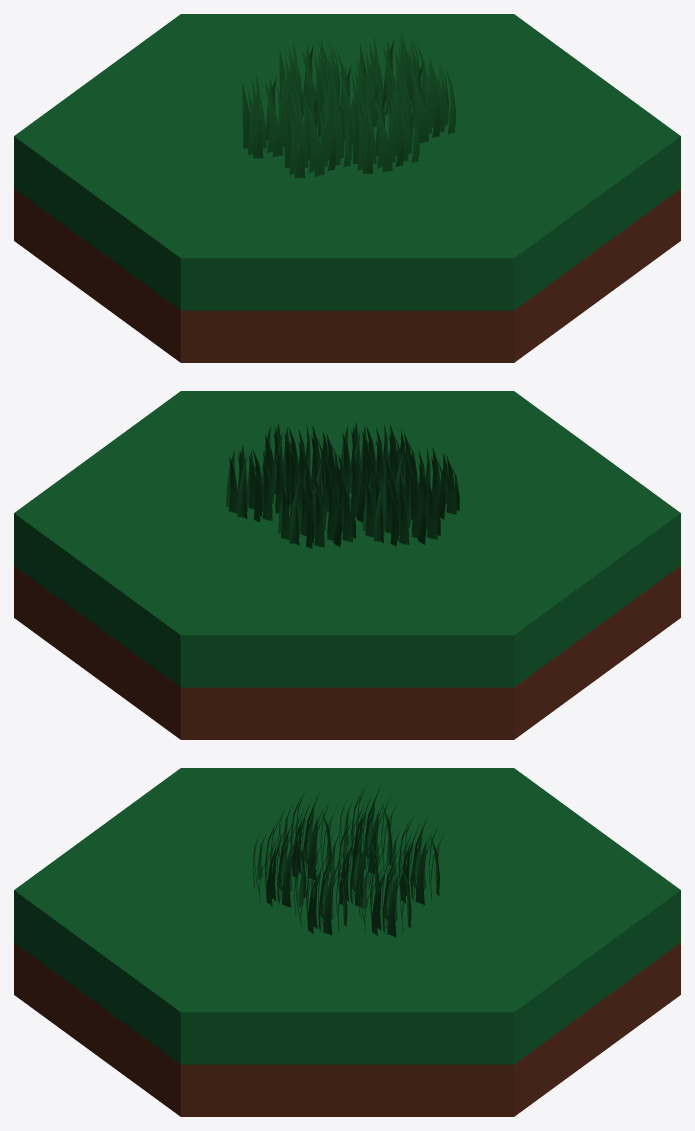
Rendered from SM_GrassTall.FBX.
The picture shows the model from 3 angles, top to bottom: view 1: azimuth 30°, elevation 25°; view 2: azimuth 150°, elevation 25°; view 3: azimuth 270°, elevation 25°; orthographic projection.
Visible parts, largest first — view 1: SM_GrassTall; view 2: SM_GrassTall; view 3: SM_GrassTall.
Boxes of the visible parts, box(x1,y1,x2,y2) form: SM_GrassTall: box(14, 14, 680, 362); SM_GrassTall: box(14, 391, 680, 739); SM_GrassTall: box(14, 768, 680, 1116).
Size of the model in its own units: 100 by 115 by 32.53.
